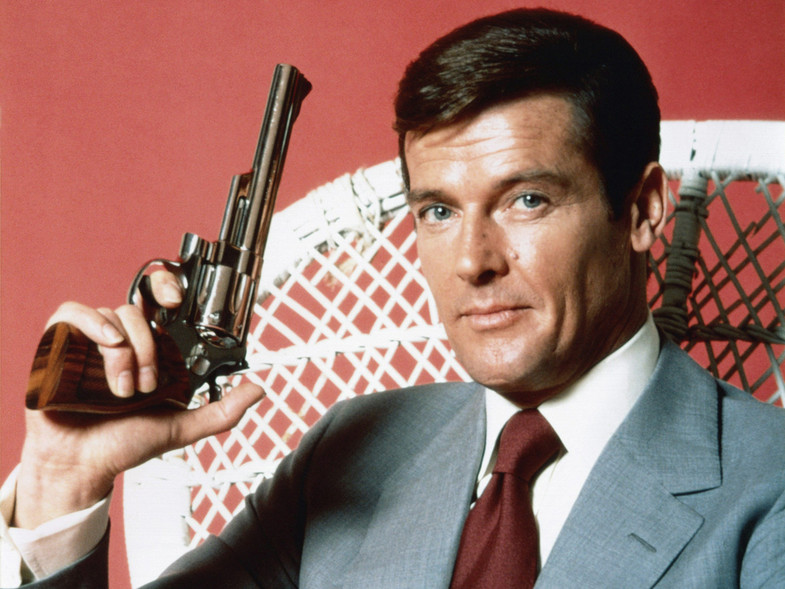Revolver: (23, 20, 344, 432)
